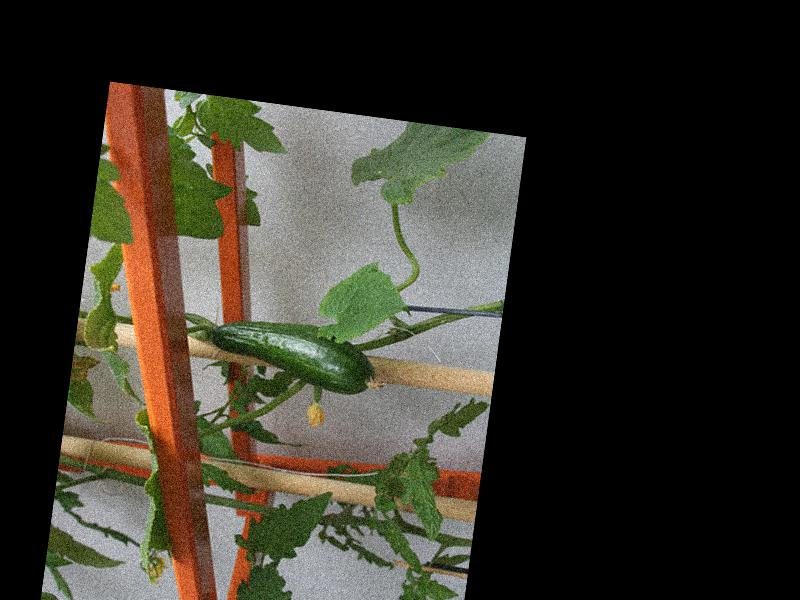Cucumber: (207, 313, 391, 399)
